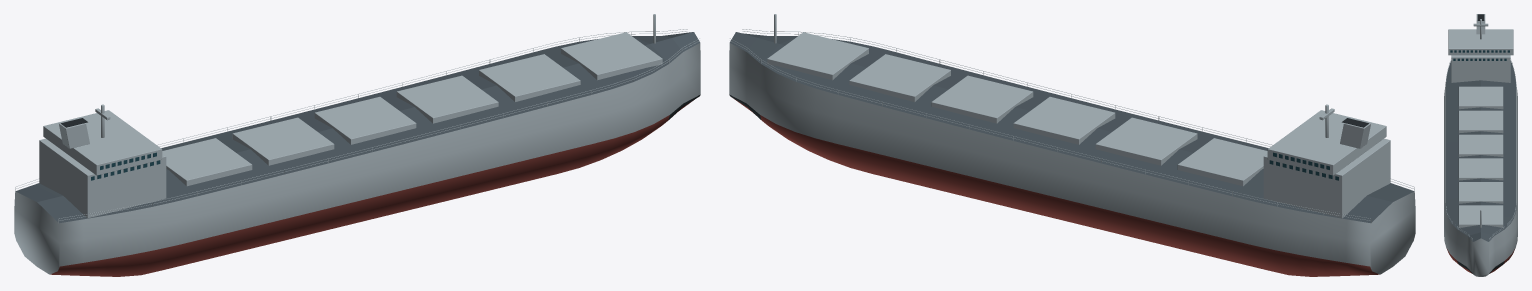
Rendered from cw90_merchant.glb.
3 renders of one model, left to right at view 1: azimuth 30°, elevation 25°; view 2: azimuth 150°, elevation 25°; view 3: azimuth 270°, elevation 25°, orthographic. The views are drawn at different scales.
Parts seen in each view (by area): view 1: cw90_merchant; view 2: cw90_merchant; view 3: cw90_merchant.
Boxes of the visible parts, x1,y1,x2,y2 form: cw90_merchant: (14, 14, 700, 276); cw90_merchant: (729, 14, 1415, 276); cw90_merchant: (1444, 14, 1517, 276).
Bounding box in the file's own units: 10 × 2.42 × 1.6.
